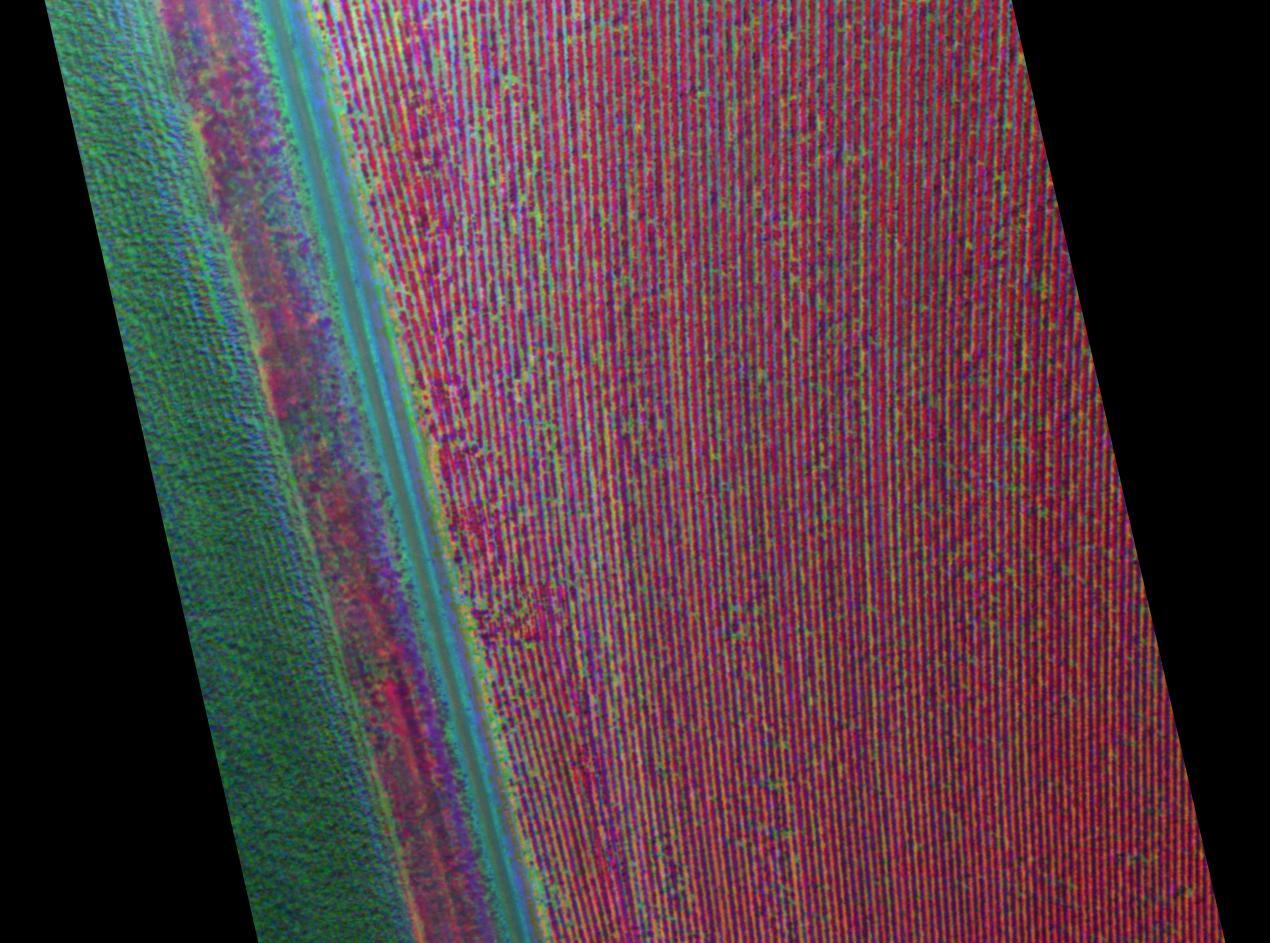dc: (502, 76, 517, 84), (392, 12, 401, 20), (859, 145, 865, 155), (731, 633, 741, 639), (549, 886, 559, 892), (698, 91, 708, 96), (533, 209, 539, 216), (720, 199, 726, 205)
